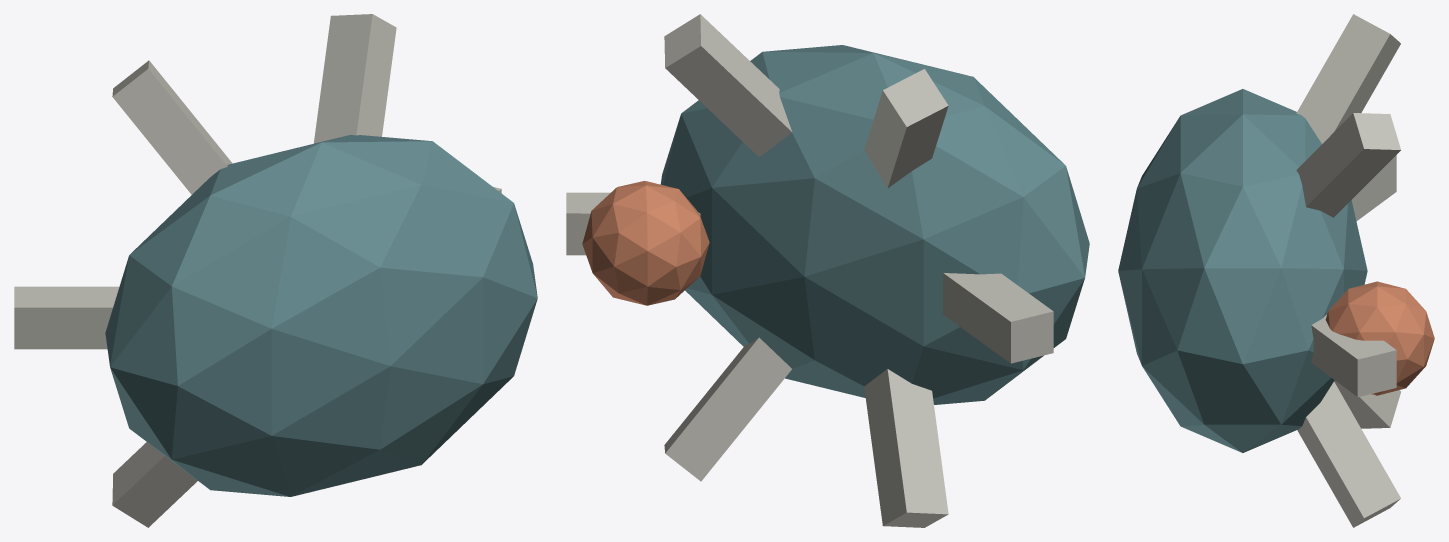
Rendered from swarm_bot.glb.
3 views of the same model, side by side, from view 1: azimuth 30°, elevation 25°; view 2: azimuth 150°, elevation 25°; view 3: azimuth 270°, elevation 25° (orthographic). The views are drawn at different scales.
Parts seen in each view (by area): view 1: shell, leg_02, leg_03, leg_04, leg_05; view 2: shell, optic, leg_05, leg_02, leg_06, leg_04, leg_03, leg_01; view 3: shell, leg_06, leg_03, leg_02, optic, leg_01, leg_05, leg_04.
Part boxes in pixels (x1,y1,x2,y2): shell: [105, 135, 537, 496]; leg_02: [313, 14, 396, 143]; leg_03: [112, 60, 232, 194]; leg_04: [14, 286, 119, 349]; leg_05: [112, 442, 197, 527]; shell: [660, 45, 1089, 404]; optic: [582, 181, 709, 305]; leg_05: [864, 369, 948, 527]; leg_02: [664, 14, 792, 156]; leg_06: [664, 337, 791, 481]; leg_04: [943, 273, 1053, 363]; leg_03: [864, 69, 948, 188]; leg_01: [566, 192, 700, 255]; shell: [1118, 89, 1367, 452]; leg_06: [1297, 382, 1400, 527]; leg_03: [1296, 14, 1400, 143]; leg_02: [1296, 113, 1400, 217]; optic: [1325, 281, 1434, 395]; leg_01: [1311, 315, 1396, 396]; leg_05: [1334, 380, 1400, 428]; leg_04: [1351, 155, 1396, 221].
Bounding box in the file's own units: 0.7947 × 0.7158 × 0.495.
